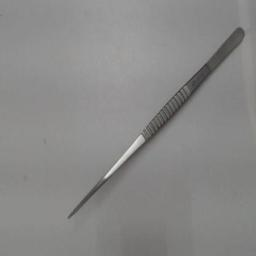DeBakey Dissector: (59, 12, 251, 240)
